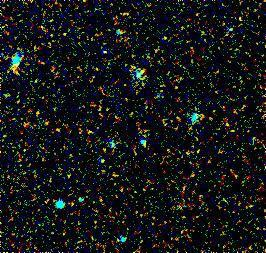star: (109, 0, 139, 30)
